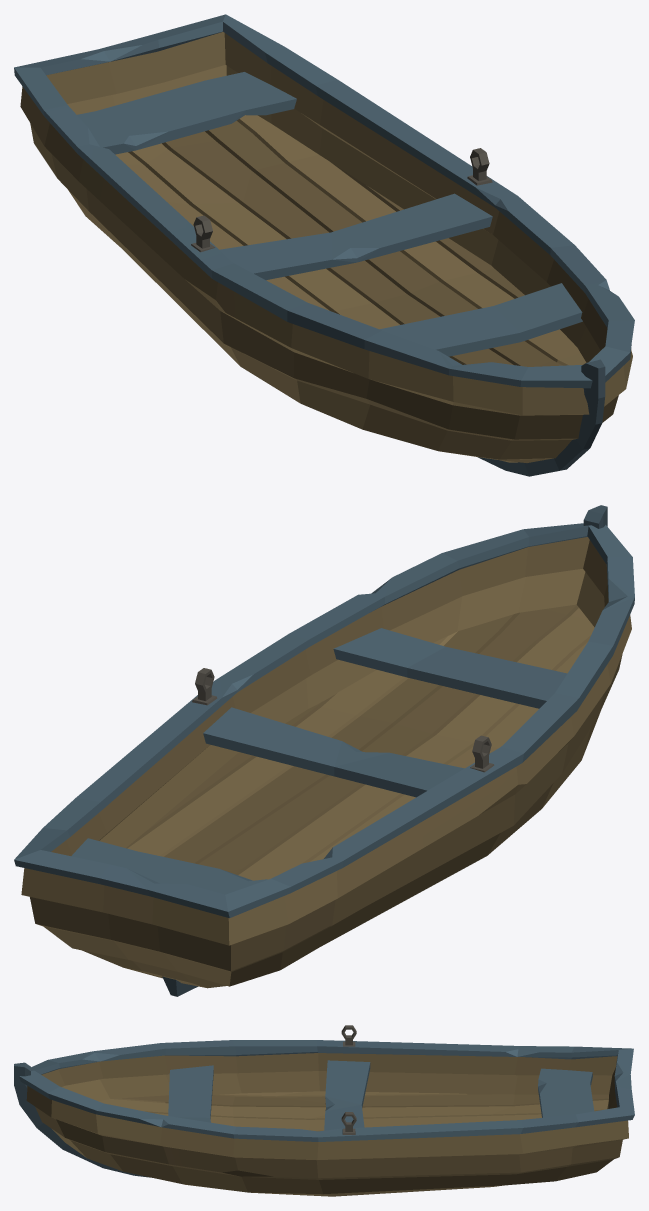
File: BoatSmall_3.fbx
The picture shows the model from 3 angles, top to bottom: view 1: azimuth 30°, elevation 25°; view 2: azimuth 150°, elevation 25°; view 3: azimuth 270°, elevation 25°; orthographic projection. The views are drawn at different scales.
Parts seen in each view (by area): view 1: BoatSmall_3; view 2: BoatSmall_3; view 3: BoatSmall_3.
Boxes of the visible parts, box(x1,y1,x2,y2) form: BoatSmall_3: box(14, 14, 634, 476); BoatSmall_3: box(14, 505, 634, 996); BoatSmall_3: box(14, 1025, 634, 1196).
Bounding box in the file's own units: 148 × 89.99 × 402.
